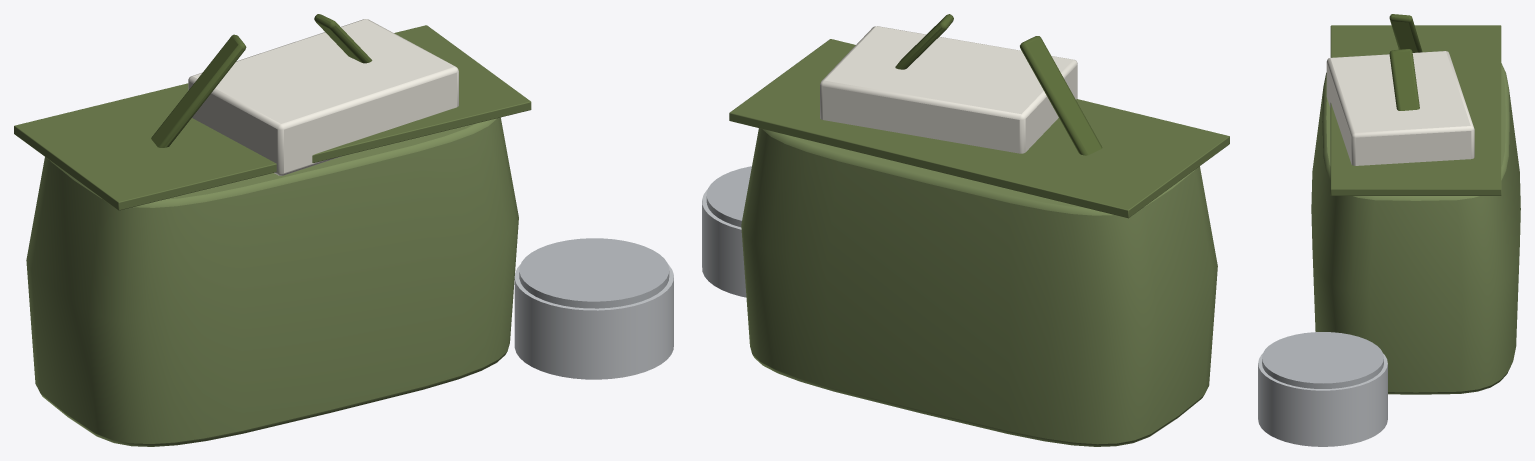
The model's file is HanhLyKhoi_TuiVai.glb.
The picture shows the model from 3 angles, left to right: view 1: azimuth 30°, elevation 25°; view 2: azimuth 150°, elevation 25°; view 3: azimuth 270°, elevation 25°; orthographic projection. The views are drawn at different scales.
Parts seen in each view (by area): view 1: HanhLyKhoi_TuiVai; view 2: HanhLyKhoi_TuiVai; view 3: HanhLyKhoi_TuiVai.
Part boxes in pixels (bbox=[...]): HanhLyKhoi_TuiVai: bbox=[14, 14, 673, 446]; HanhLyKhoi_TuiVai: bbox=[702, 14, 1229, 446]; HanhLyKhoi_TuiVai: bbox=[1258, 14, 1520, 446].
Size of the model in its own units: 0.6636 by 0.4016 by 0.3386.
